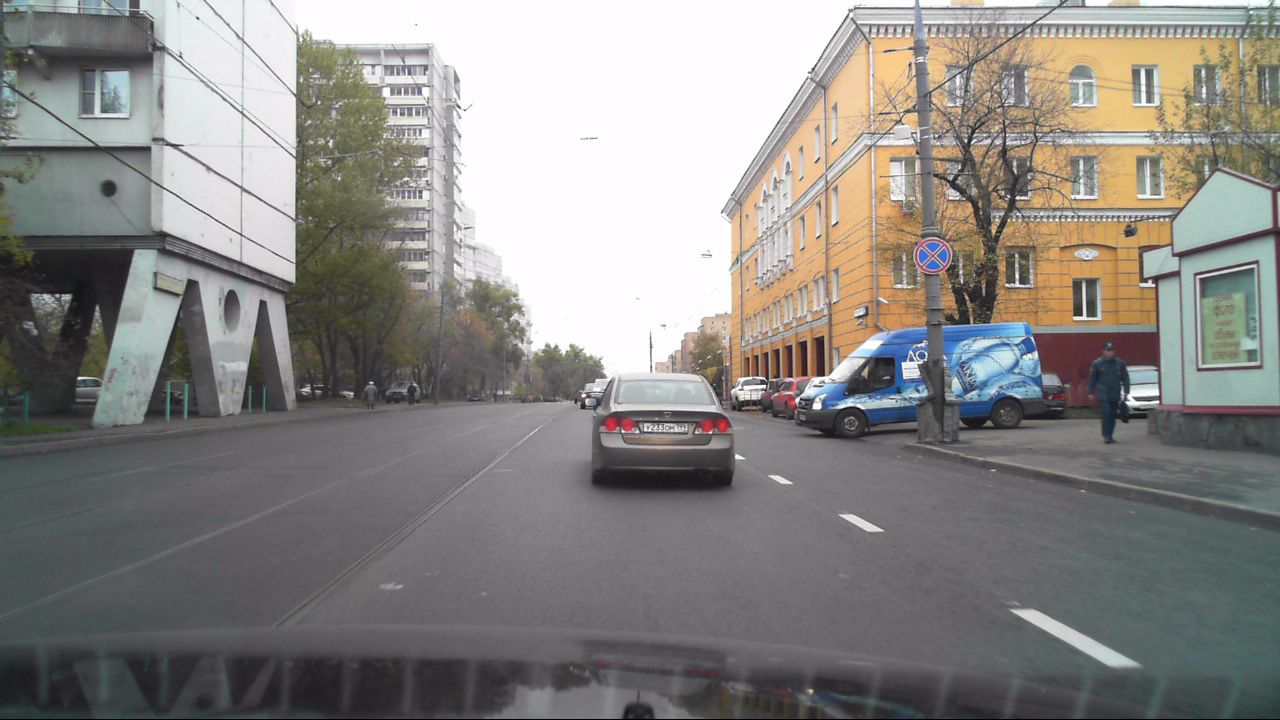No Parking: (914, 238, 953, 273)
